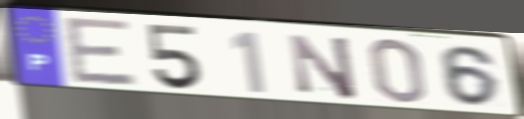0: (366, 37, 429, 106)
1: (229, 29, 266, 95)
5: (143, 22, 203, 92)
6: (436, 43, 501, 108)
E: (60, 14, 141, 88)
N: (286, 32, 360, 102)
